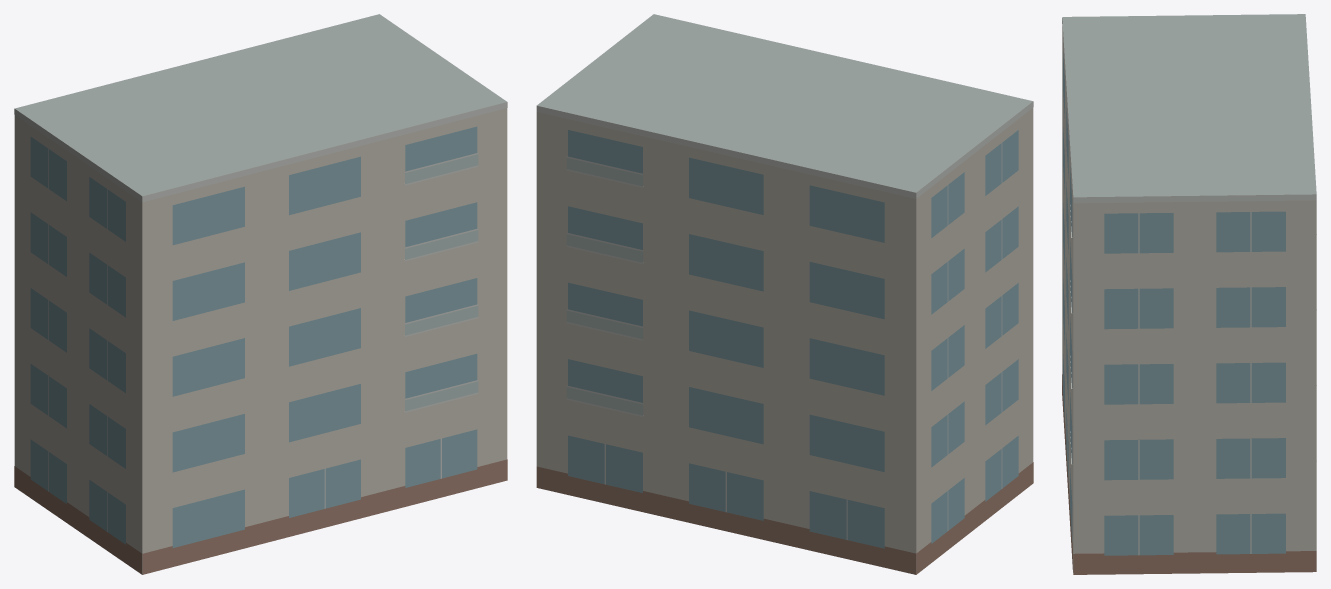
File: survey-upis-32839707.glb
The picture shows the model from 3 angles, left to right: view 1: azimuth 30°, elevation 25°; view 2: azimuth 150°, elevation 25°; view 3: azimuth 270°, elevation 25°; orthographic projection.
Parts seen in each view (by area): view 1: survey-upis-32839707.tmp; view 2: survey-upis-32839707.tmp; view 3: survey-upis-32839707.tmp.
Boxes of the visible parts, <box> form: survey-upis-32839707.tmp: <box>14,14,507,574</box>; survey-upis-32839707.tmp: <box>536,14,1033,574</box>; survey-upis-32839707.tmp: <box>1062,14,1316,574</box>.
Size of the model in its own units: 15.88 by 15.25 by 9.33.
